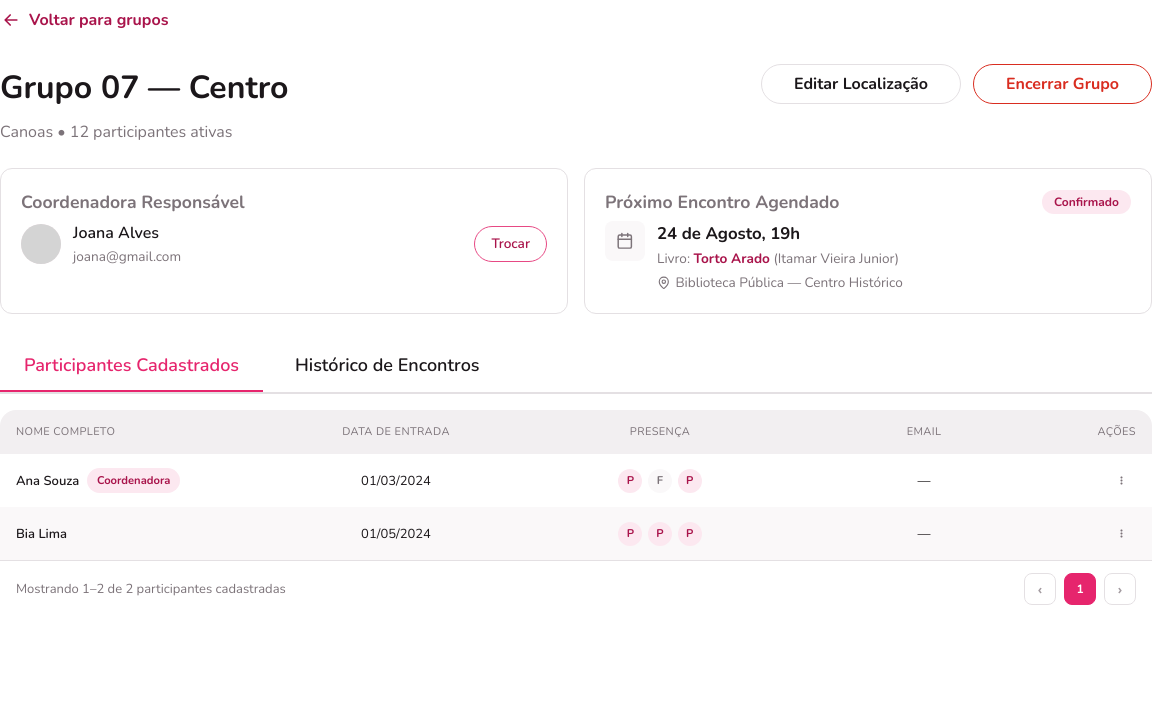
Test: GroupDetails › edita a localização do grupo pelo modal
Click the button "Editar Localização". click: (861, 84)
box: 761,64 -> 961,104
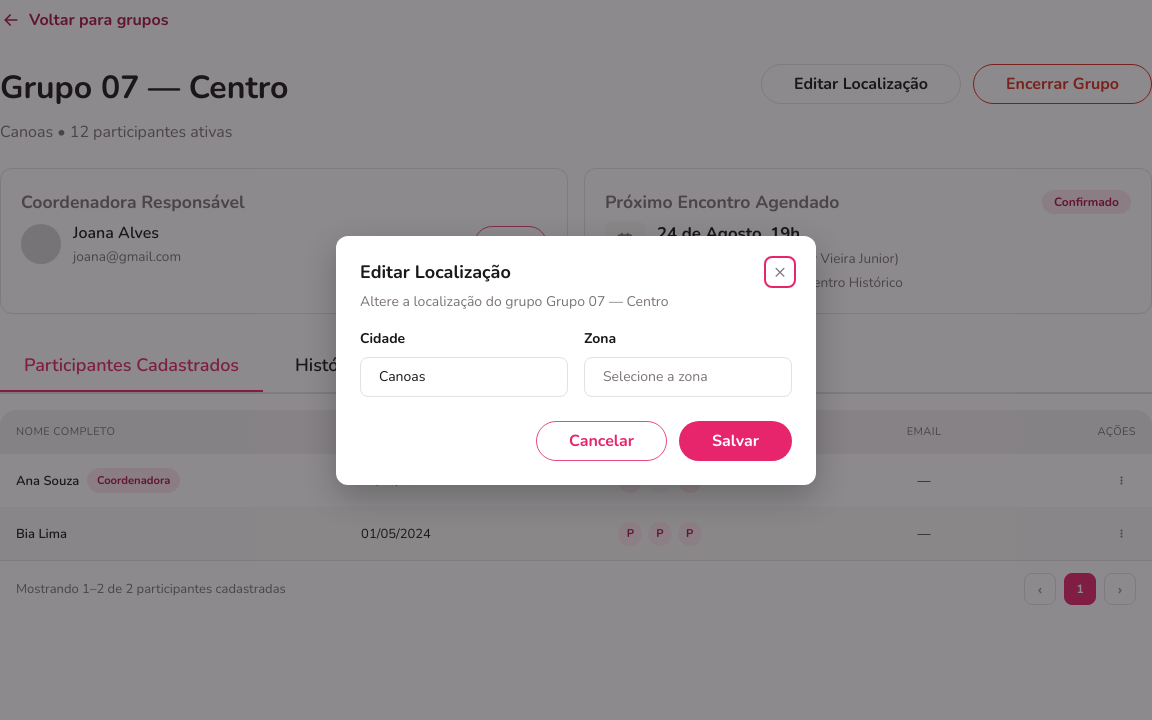
Check: the dropdown labelled "Cidade" holds "Canoas"
Clear the dropdown labelled "Cidade". click: (464, 376)
box: 377,365 -> 551,388
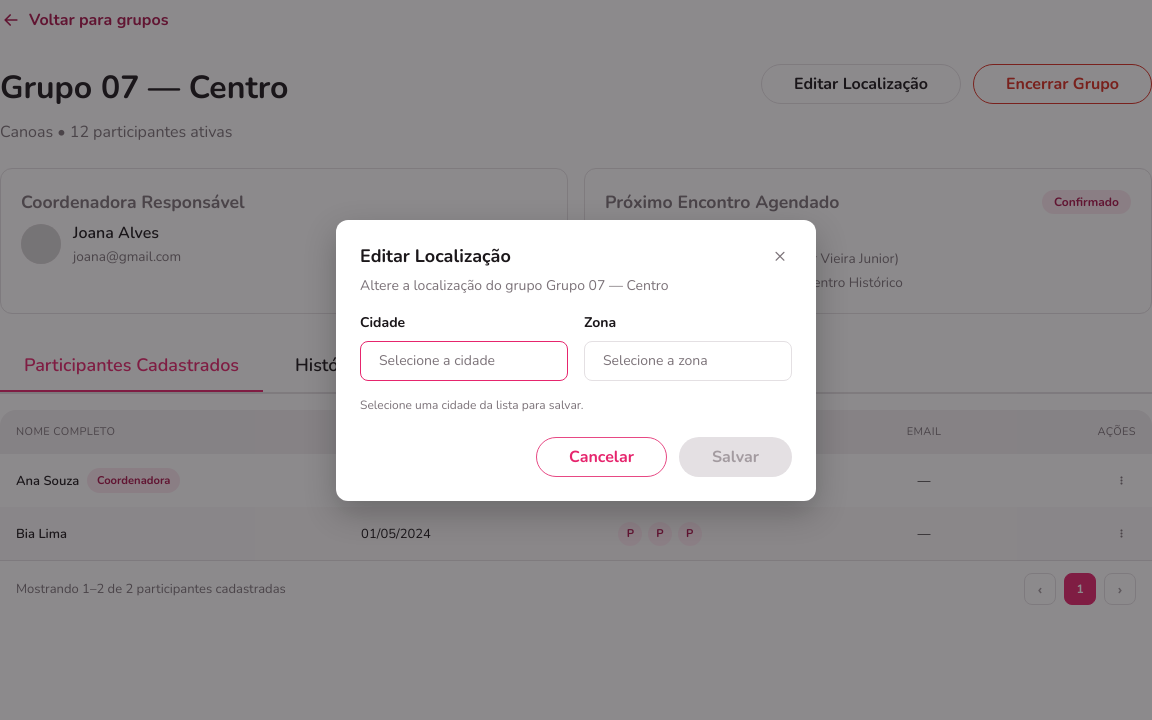
Type "porto" into the dropdown labelled "Cidade". click: (464, 360)
box: 377,349 -> 551,372
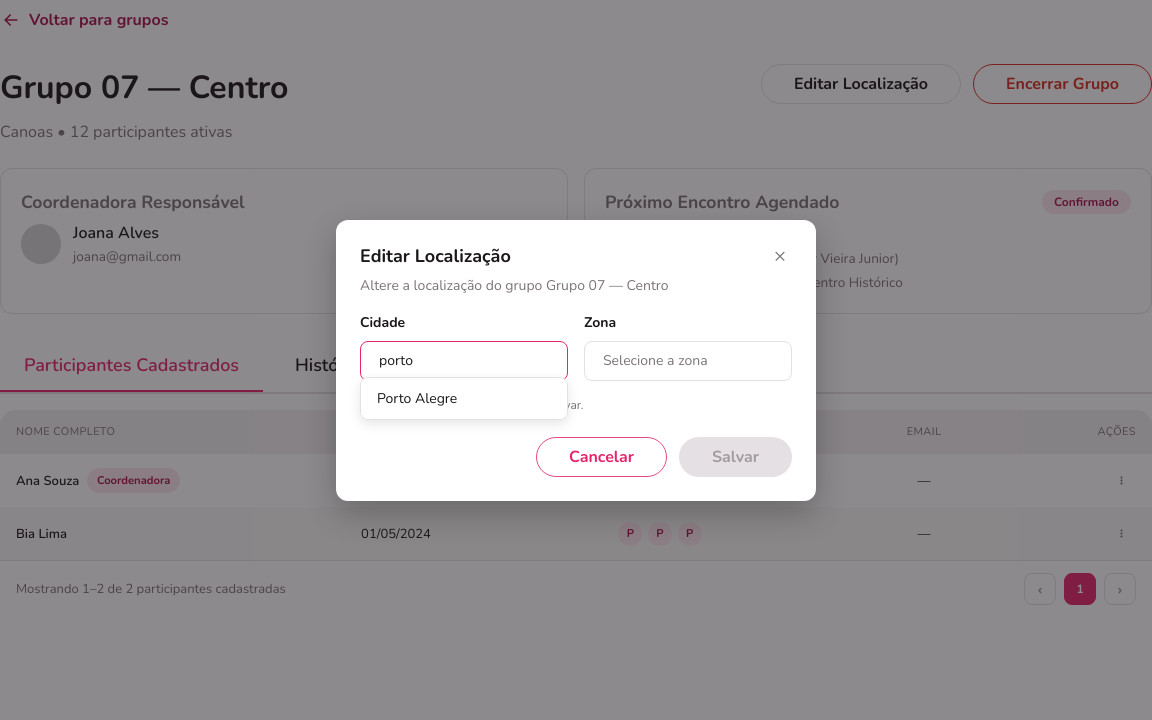
Click the option "Porto Alegre". click: (464, 398)
box: 361,378 -> 567,419
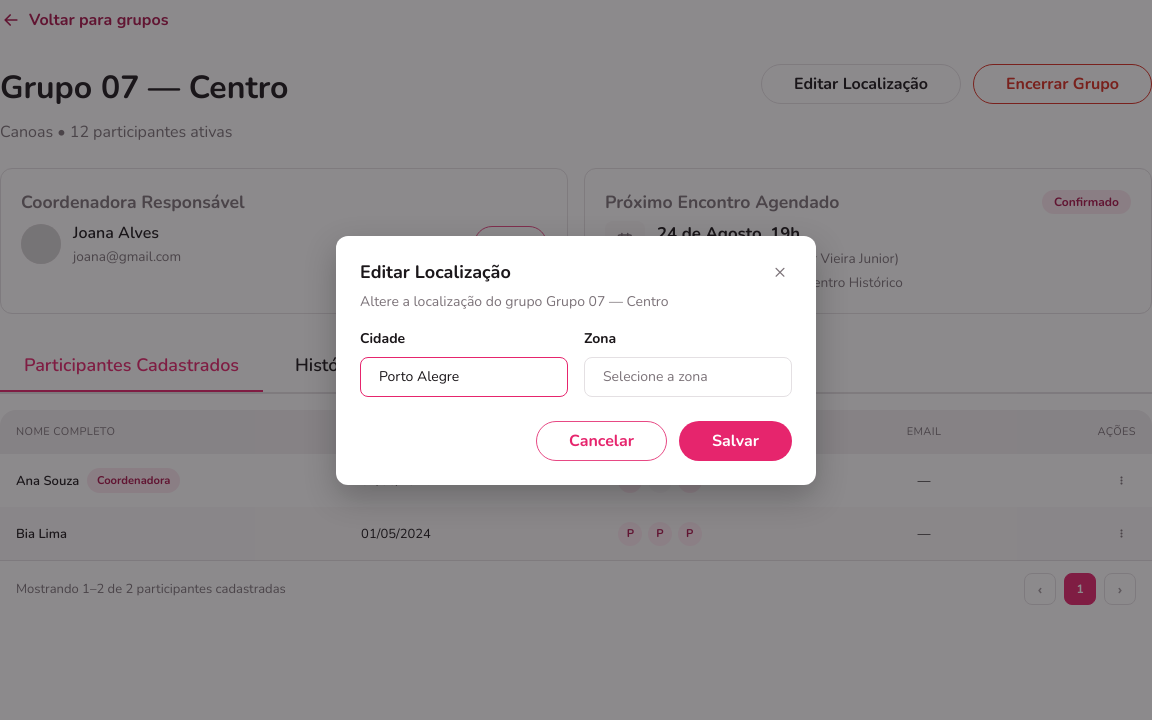
Click the button "Salvar". click: (736, 440)
box: 679,420 -> 792,460
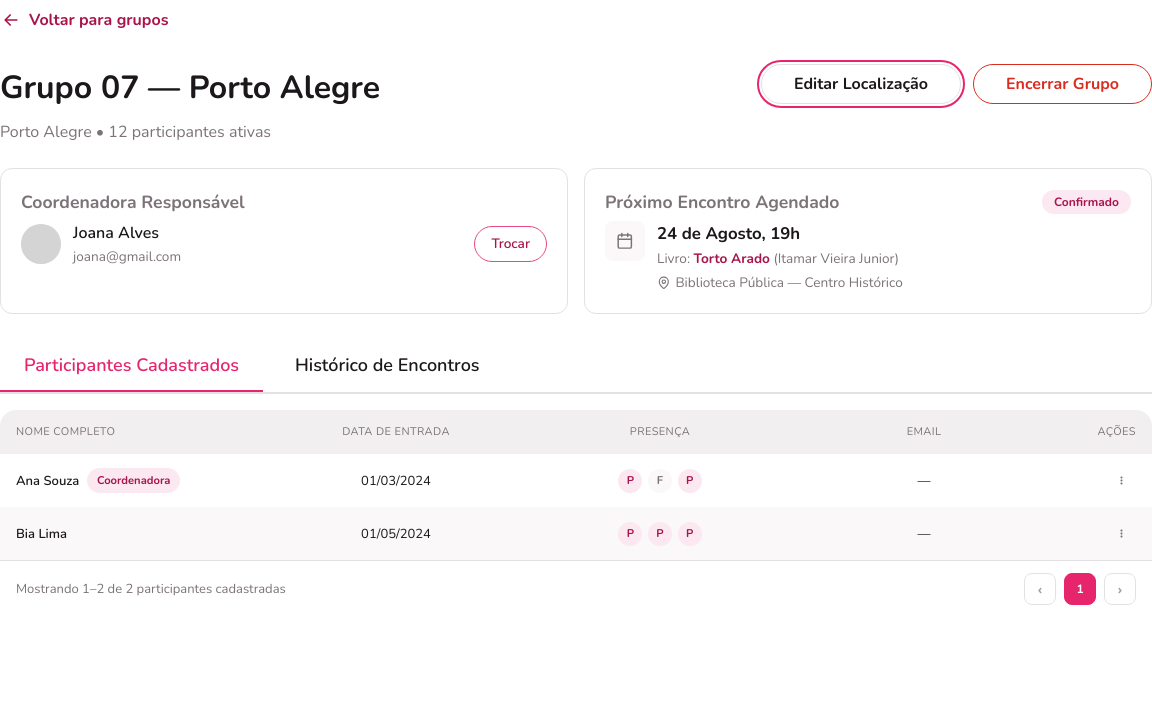
Check: the dialog is gone
Check: the heading "Grupo 07 — Porto Alegre" is shown, box 0,64 -> 380,112
Check: the text "Porto Alegre • 12 participantes ativas" is shown, box 0,121 -> 271,143
